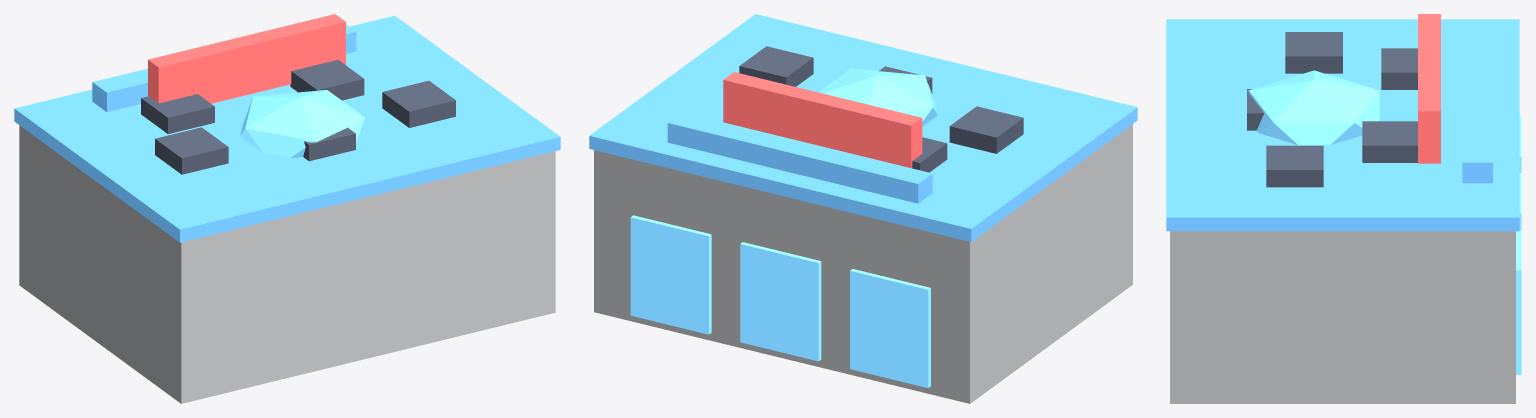
File: shopping_center.glb
The picture shows the model from 3 angles, left to right: view 1: azimuth 30°, elevation 25°; view 2: azimuth 150°, elevation 25°; view 3: azimuth 270°, elevation 25°; orthographic projection. The views are drawn at different scales.
Parts seen in each view (by area): view 1: shopping_center; view 2: shopping_center; view 3: shopping_center.
Boxes of the visible parts, x1,y1,x2,y2 form: shopping_center: [14, 14, 560, 403]; shopping_center: [589, 14, 1137, 403]; shopping_center: [1166, 14, 1521, 403].
Bounding box in the file's own units: 2.44 × 1.4 × 1.85.
